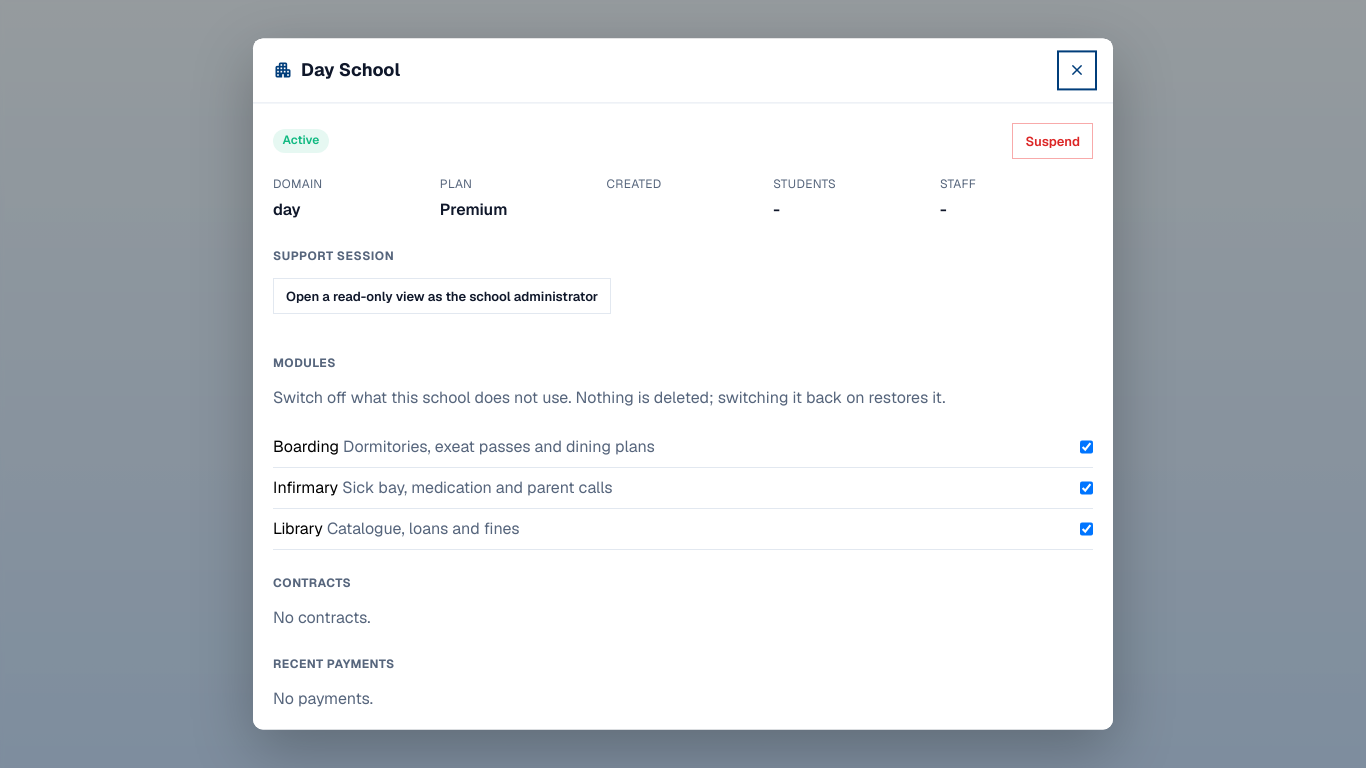
Test: SchoolOverviewModal modules › says so when the change is refused, and leaves the switch where it was
Click the checkbox labelled "Infirmary": (1086, 488) [1080, 476, 1093, 501]
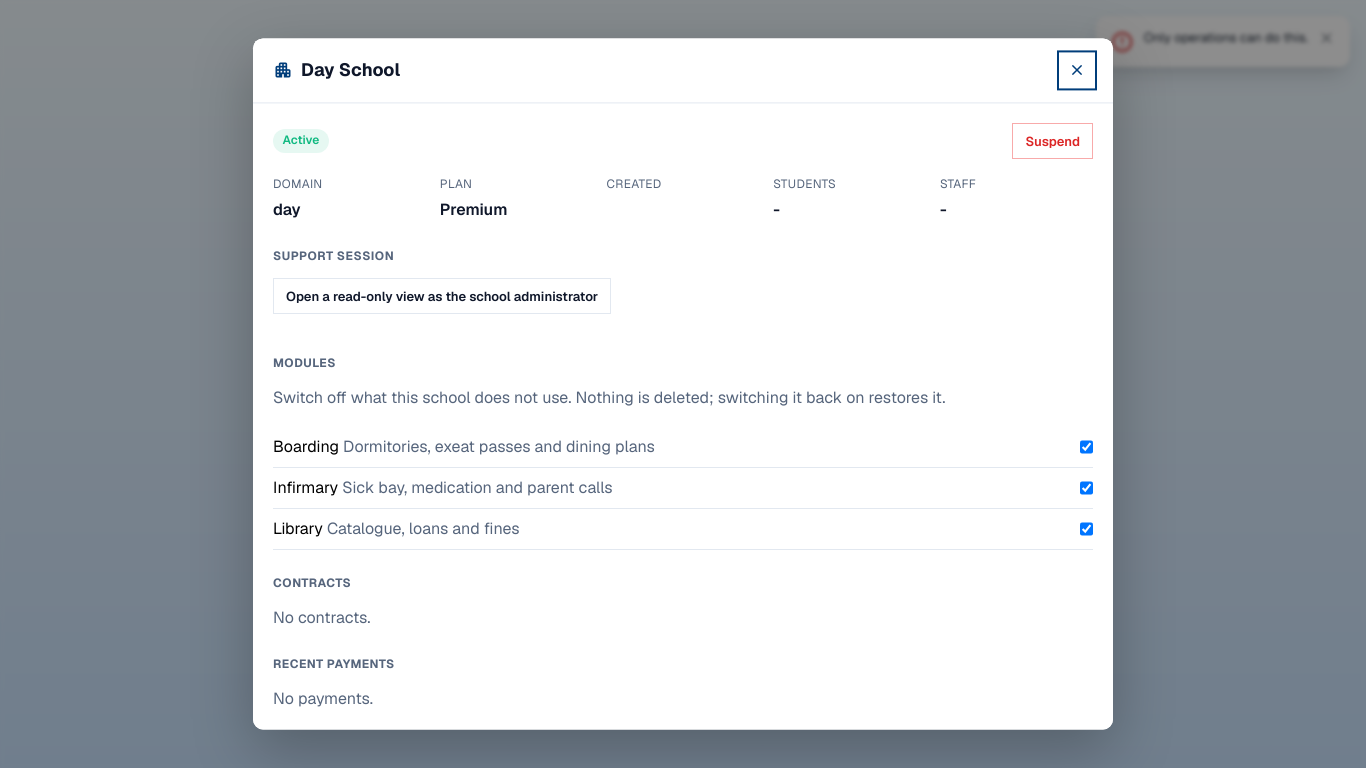
Expected: the text "Only operations can do this." is shown, [1144, 29, 1308, 47]
